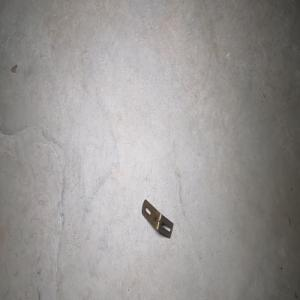MetalPart: (141, 198, 174, 239)
